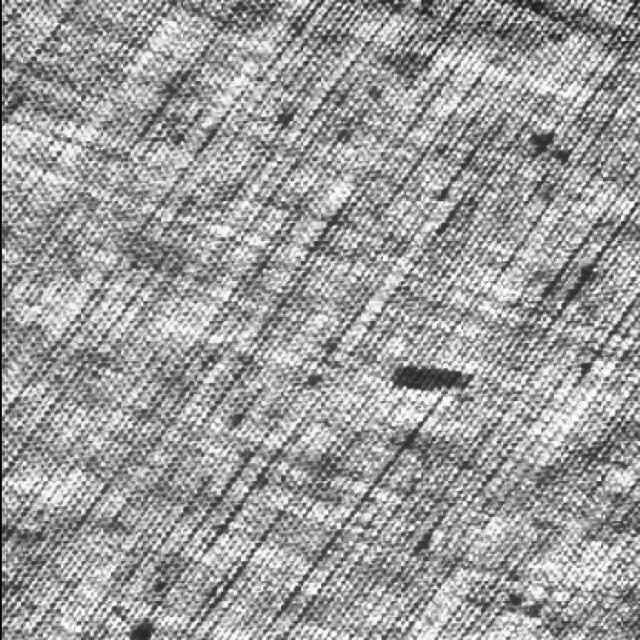oil_spot: (380, 353, 482, 405)
